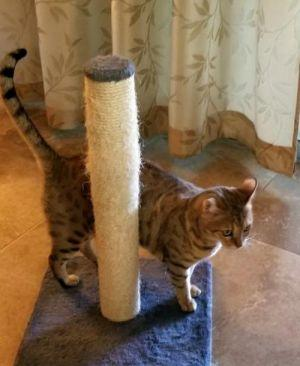bengal: (187, 175, 270, 257)
